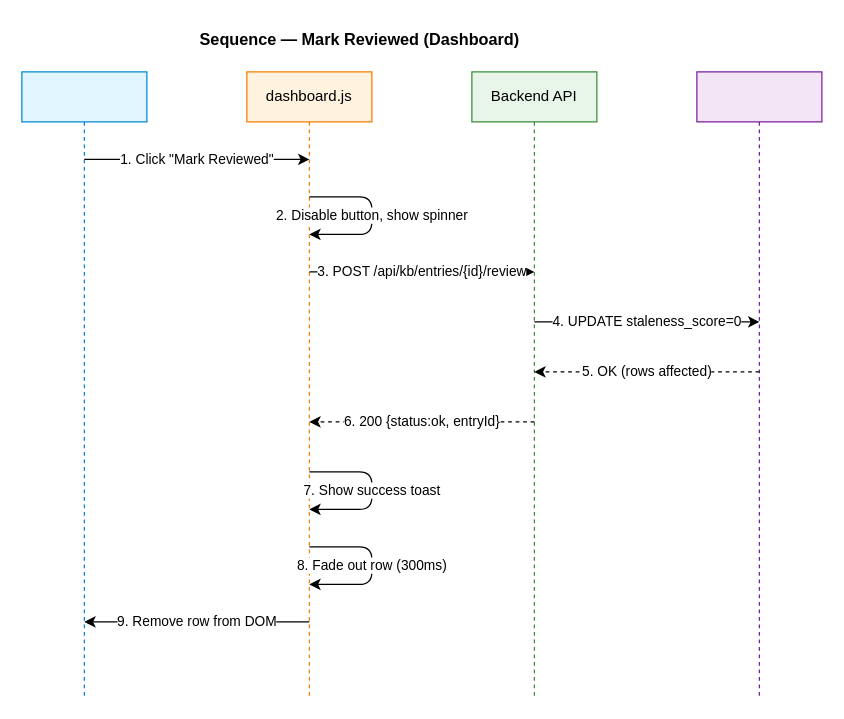
Some shapes in this 844 by 719 pixel diagram are drawn without their labels. The shapes that lost their labels are listed below. From the top down, each one's box as (x1, y1, x2, y2) in pixels, then its label:
(21, 71, 147, 697): KB Admin
(696, 71, 822, 697): SQLite
